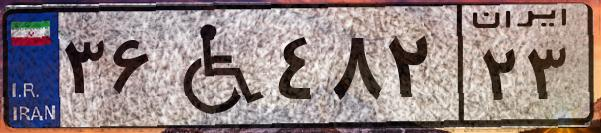2: (385, 28, 445, 110), (475, 38, 525, 113)
3: (57, 26, 110, 100), (525, 38, 570, 115)
4: (270, 28, 330, 110)
6: (110, 28, 158, 98)
8: (330, 28, 385, 110)
ژ (معلولین و جانبازان): (158, 12, 270, 120)
